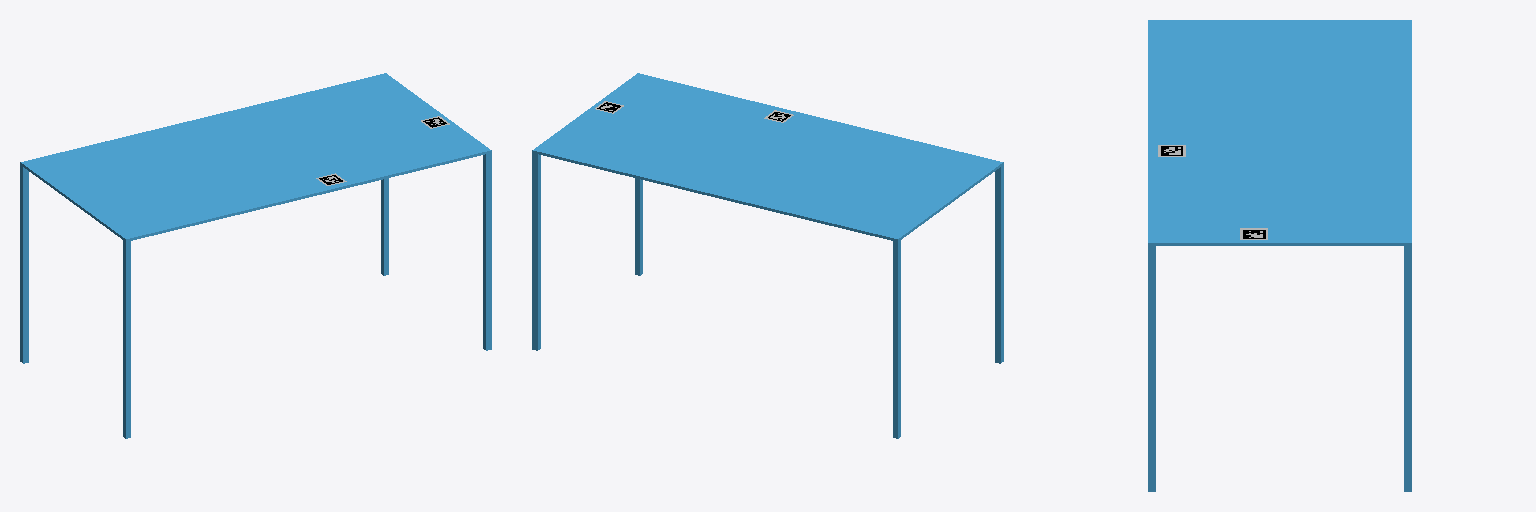
URDF robot description (table):
<robot name="table">
  <link name="base_link">
  </link>
  <joint name="table_joint" type="fixed">
    <parent link="base_link"/>
    <child link="table_link"/>
    <origin xyz="0 0 0.005"/>
  </joint>
  <link name="table_link">
    <visual>
      <origin xyz="0 0 .725"/>
      <geometry>
        <box size="1.40 .70 .01"/>
      </geometry>
    </visual>
    <visual>
      <origin xyz=".69 .34 .36"/>
      <geometry>
        <box size=".02 .02 .72"/>
      </geometry>
    </visual>
    <visual>
      <origin xyz="-.69 .34 .36"/>
      <geometry>
        <box size=".02 .02 .72"/>
      </geometry>
    </visual>
    <visual>
      <origin xyz="-.69 -.34 .36"/>
      <geometry>
        <box size=".02 .02 .72"/>
      </geometry>
    </visual>
    <visual>
      <origin xyz=".69 -.34 .36"/>
      <geometry>
        <box size=".02 .02 .72"/>
      </geometry>
    </visual>

    <collision>
      <origin xyz="0 0 .725"/>
      <geometry>
        <box size="1.44 .74 .01"/>
      </geometry>
    </collision>
    <collision>
      <origin xyz=".69 .34 .36"/>
      <geometry>
        <box size=".02 .02 .72"/>
      </geometry>
    </collision>
    <collision>
      <origin xyz="-.69 .34 .36"/>
      <geometry>
        <box size=".02 .02 .72"/>
      </geometry>
    </collision>
    <collision>
      <origin xyz="-.69 -.34 .36"/>
      <geometry>
        <box size=".02 .02 .72"/>
      </geometry>
    </collision>
    <collision>
      <origin xyz=".69 -.34 .36"/>
      <geometry>
        <box size=".02 .02 .72"/>
      </geometry>
    </collision>
    <inertial>
      <mass value="2.2"/>
      <origin xyz="0 0 0.65" rpy="0 0 0"/>
      <inertia ixx="0.1"  ixy="0"  ixz="0" iyy="0.1" iyz="0" izz="0.1" />
    </inertial>
  </link>
  <!-- tag36_11_00004 -->
  <link name="tag36_11_00004">
    <visual>
      <origin xyz="0 0 0.0005"/>
      <geometry>
        <mesh filename="package://gerard_bauzil/meshes/apriltag_36h11/tag36_11_00004.dae" scale="0.060 0.060 1." />
      </geometry>
    </visual>
  </link>
  <joint name="tag36_11_00004_joint" type="fixed">
    <parent link="table_link"/>
    <child link="tag36_11_00004"/>
    <origin xyz="0.647 -0.0685 0.73" rpy="0 0 -1.5707963267948966" />
  </joint>
  <!-- tag36_11_00005 -->
  <link name="tag36_11_00005">
    <visual>
      <origin xyz="0 0 0.0005"/>
      <geometry>
        <mesh filename="package://gerard_bauzil/meshes/apriltag_36h11/tag36_11_00005.dae" scale="0.060 0.060 1." />
      </geometry>
    </visual>
  </link>
  <joint name="tag36_11_00005_joint" type="fixed">
    <parent link="table_link"/>
    <child link="tag36_11_00005"/>
    <origin xyz="0.123 -0.287 0.73" rpy="0 0 -1.5707963267948966" />
  </joint>
  <gazebo>
    <static>true</static>
  </gazebo>
</robot>

--- Facts derived from the render (not from the file) ---
The picture shows the robot from 3 angles, left to right: view 1: azimuth 30°, elevation 25°; view 2: azimuth 150°, elevation 25°; view 3: azimuth 270°, elevation 25°; orthographic projection.
Robot: table — 4 links, 3 joints (3 fixed); root link base_link; default pose: every joint at zero.
Links seen in each view (by area): view 1: table_link; view 2: table_link; view 3: table_link.
Link boxes in pixels (box(x1,y1,x2,y2)): table_link: box(20, 73, 491, 438); table_link: box(532, 73, 1003, 438); table_link: box(1148, 20, 1411, 491).
Bounding box of the posed robot: 1.4 × 0.7 × 0.7305 m (x, y, z).
Meshes: 2 distinct files referenced, 2 mesh visuals loaded (2 Collada DAE).
